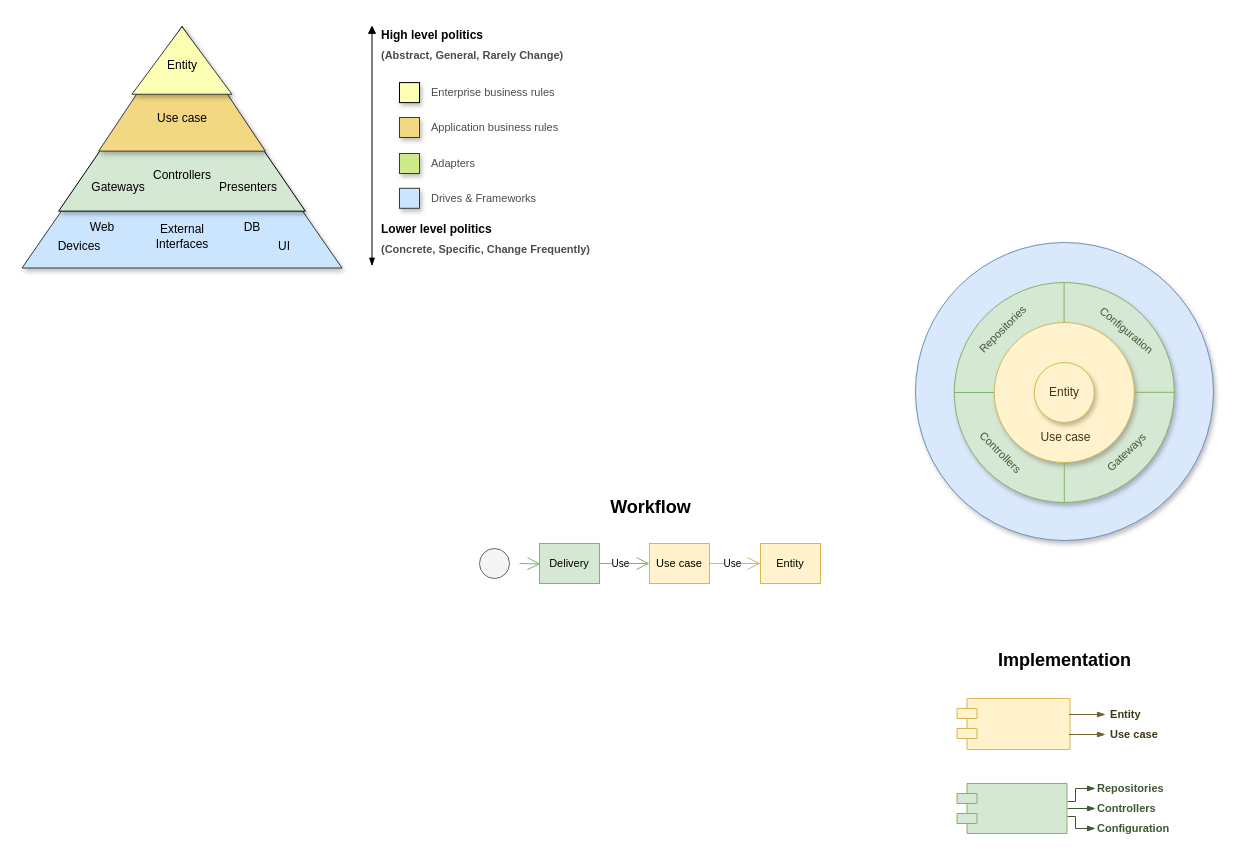
This 1237x856 diagram has some shape labels left out. The shapes that lost their labels are listed below. From the top down, each one's centre as x and y in pixels, then its label:
pixel 1013 724: User
pixel 1011 808: Infrastructure
